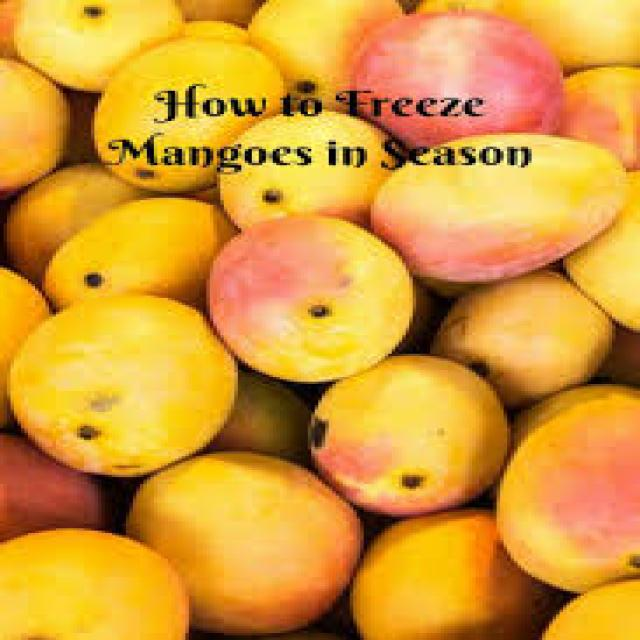mango: (206, 216, 416, 386)
